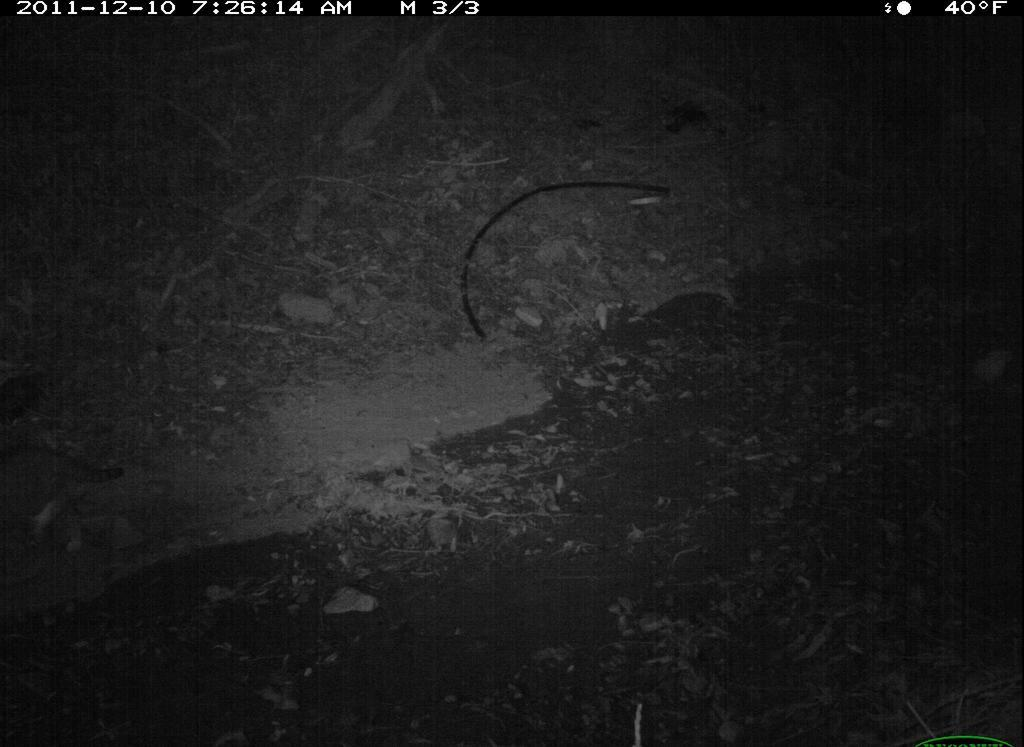cat: (1, 431, 136, 567)
